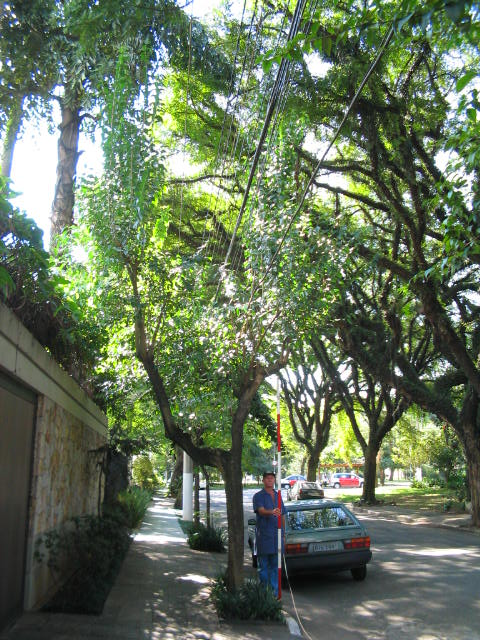crown: (58, 80, 378, 382)
stem: (206, 467, 258, 614), (447, 424, 480, 524), (356, 449, 382, 505)
stick: (269, 415, 286, 608)
tree: (54, 79, 379, 616)
